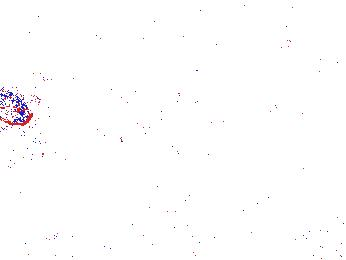X-ray fish: (1, 64, 57, 98), (1, 91, 33, 126)
red belly glassfish: (257, 35, 297, 59)
